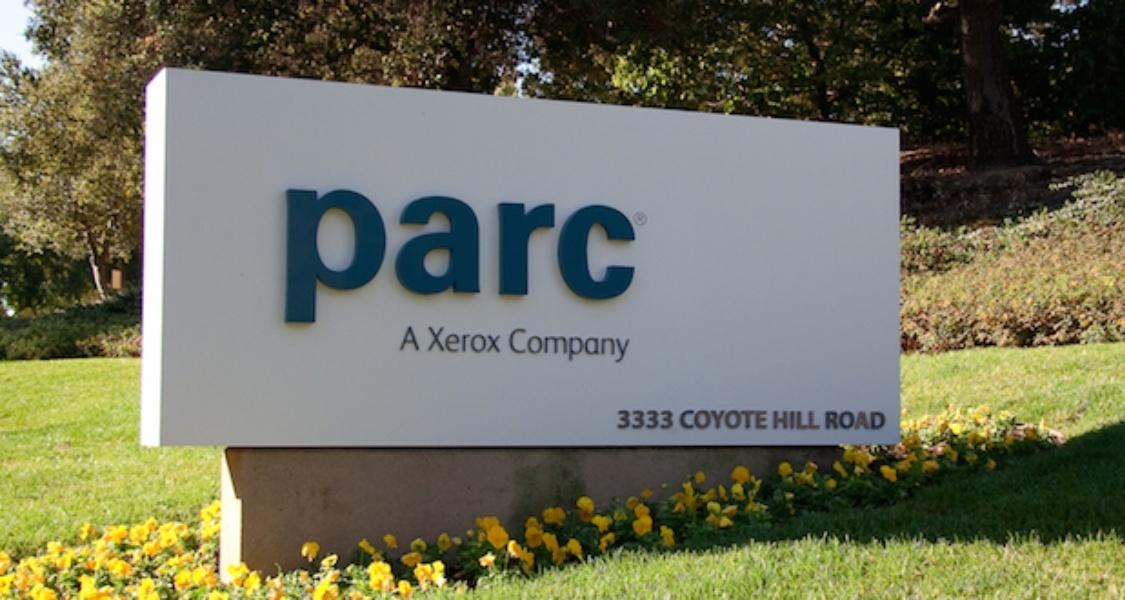text: (289, 186, 304, 330), (305, 186, 320, 330), (321, 186, 336, 330), (337, 186, 352, 330), (353, 186, 368, 330), (369, 186, 384, 330), (385, 186, 400, 330), (401, 186, 416, 330), (417, 186, 432, 330), (433, 186, 448, 330), (449, 186, 464, 330), (465, 186, 480, 330), (481, 186, 496, 330), (497, 186, 512, 330), (513, 186, 528, 330), (529, 186, 544, 330), (545, 186, 560, 330), (561, 186, 576, 330), (577, 186, 592, 330), (593, 186, 608, 330), (609, 186, 624, 330), (625, 186, 640, 330), (284, 186, 288, 330), (513, 328, 528, 364), (529, 328, 544, 364), (545, 328, 560, 364), (561, 328, 576, 364), (577, 328, 592, 364), (593, 328, 608, 364), (609, 328, 624, 364), (433, 326, 448, 355), (449, 326, 464, 355), (465, 326, 480, 355), (481, 326, 496, 355), (402, 324, 416, 353), (753, 406, 769, 431), (689, 406, 704, 431), (705, 406, 720, 431), (721, 406, 736, 431), (737, 406, 752, 431), (625, 408, 640, 431), (641, 408, 656, 431), (657, 408, 672, 431), (785, 408, 800, 431), (801, 408, 816, 431), (833, 410, 848, 431), (849, 410, 864, 431), (865, 410, 880, 431), (771, 408, 784, 431), (678, 406, 688, 431), (625, 328, 631, 364), (615, 408, 624, 431), (497, 326, 504, 355), (426, 326, 432, 355), (824, 410, 832, 431), (508, 328, 512, 364), (881, 410, 887, 431), (817, 408, 822, 431), (417, 324, 420, 353), (673, 408, 675, 431)
